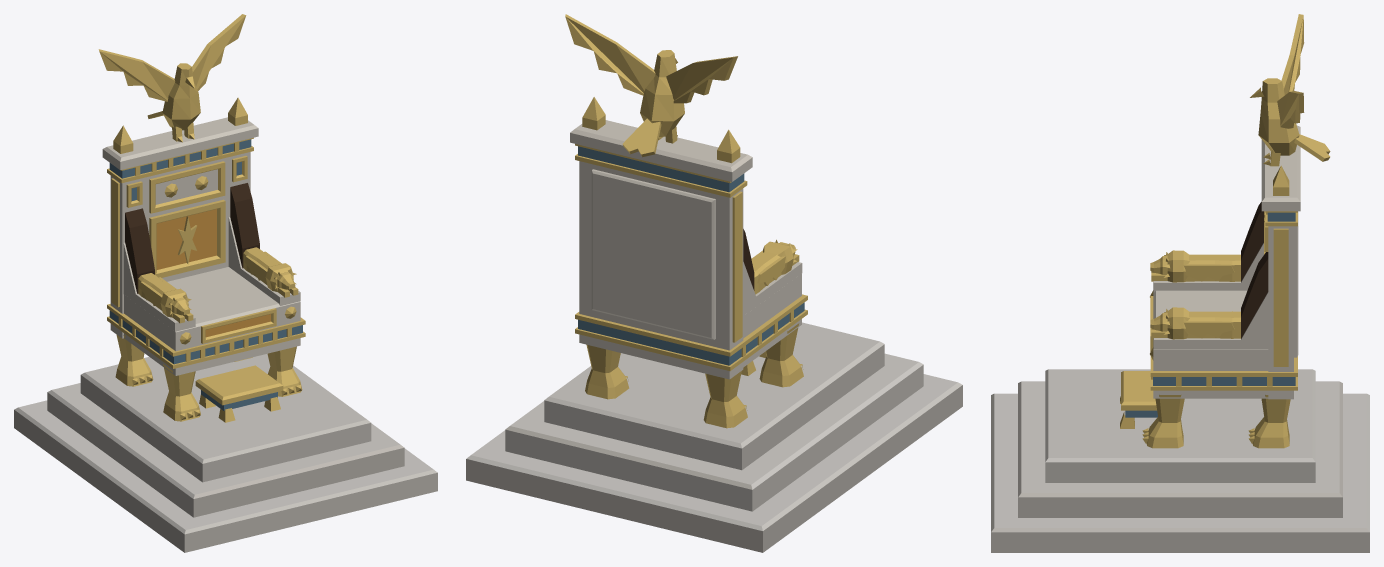
File: throne-of-zeus-20104d.glb
The picture shows the model from 3 angles, left to right: view 1: azimuth 30°, elevation 25°; view 2: azimuth 150°, elevation 25°; view 3: azimuth 270°, elevation 25°; orthographic projection. The views are drawn at different scales.
Parts seen in each view (by area): view 1: throne-base, throne-metal, footstool-metal; view 2: throne-base, throne-metal; view 3: throne-base, throne-metal, footstool-metal.
Boxes of the visible parts, bbox=[...] form: throne-base: bbox=[14, 117, 437, 552]; throne-metal: bbox=[98, 14, 305, 421]; footstool-metal: bbox=[195, 365, 283, 422]; throne-base: bbox=[466, 120, 962, 552]; throne-metal: bbox=[565, 14, 807, 428]; throne-base: bbox=[991, 125, 1369, 552]; throne-metal: bbox=[1142, 14, 1330, 448]; footstool-metal: bbox=[1120, 371, 1156, 428].
Size of the model in its own units: 3 by 4.39 by 3.5.
